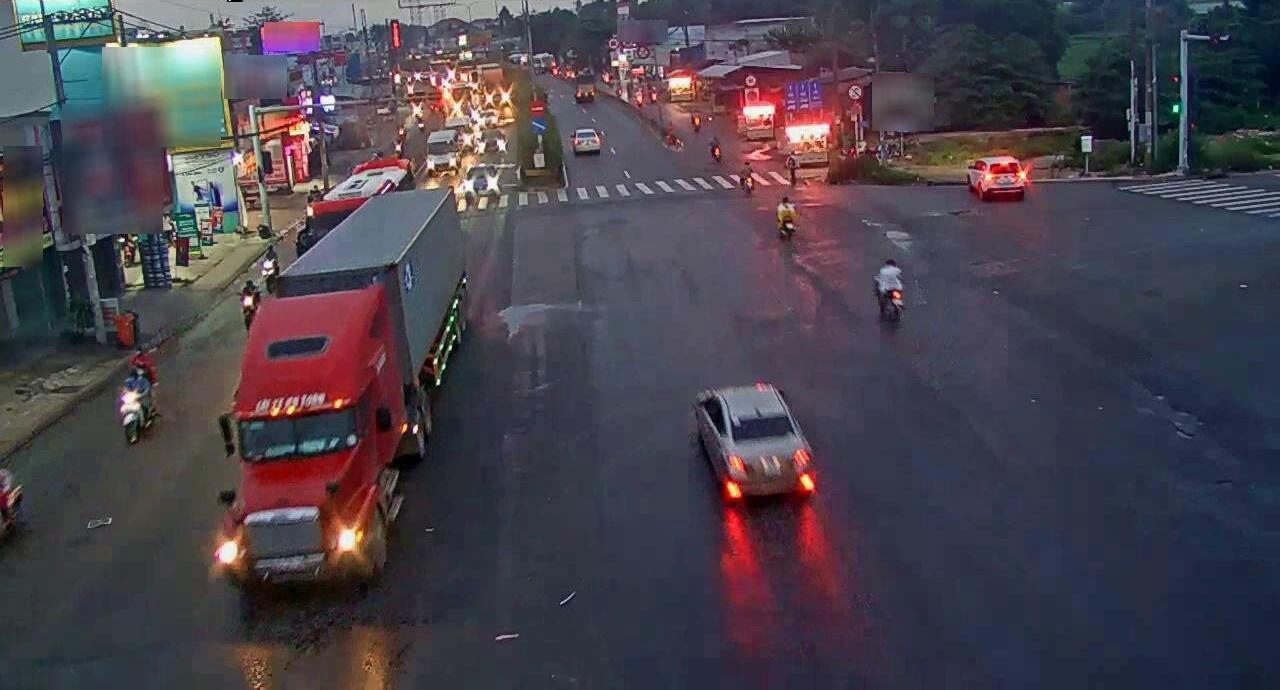xe container: (224, 187, 472, 587)
xe hoi: (689, 380, 817, 510)
xe may: (870, 250, 907, 322), (771, 192, 801, 242)
